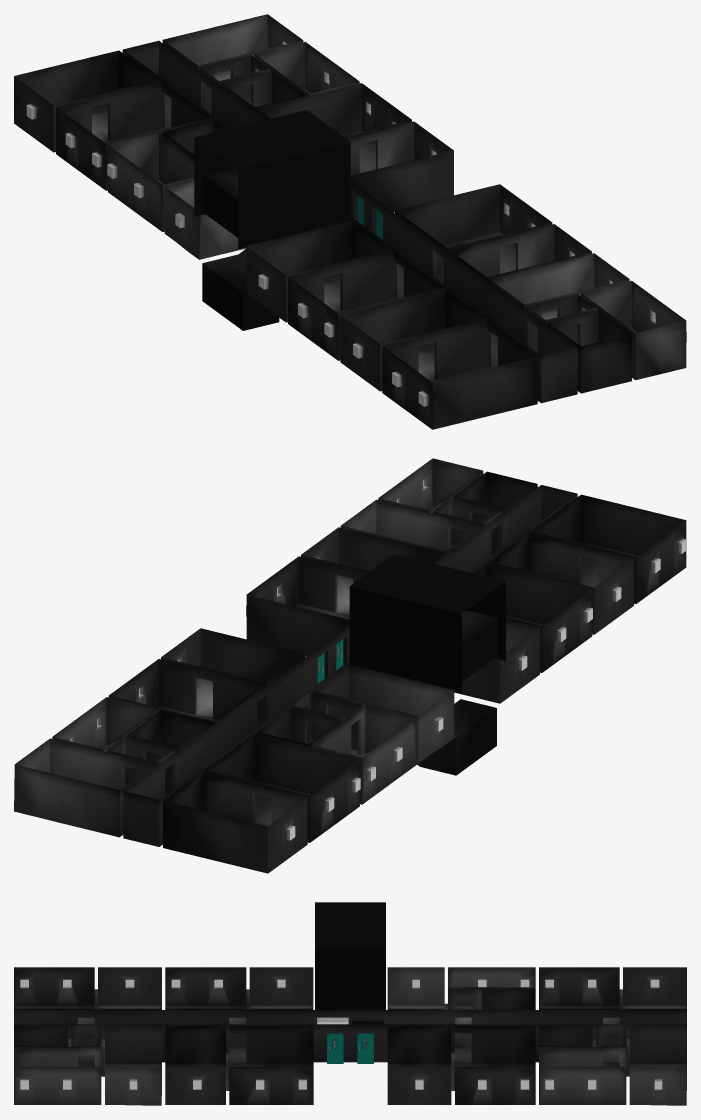
Rendered from flats.glb.
The picture shows the model from 3 angles, top to bottom: view 1: azimuth 30°, elevation 25°; view 2: azimuth 150°, elevation 25°; view 3: azimuth 270°, elevation 25°; orthographic projection. The views are drawn at different scales.
Visible parts, largest first — view 1: Floor, Cube; view 2: Floor, Cube; view 3: Floor, Cube.
Part boxes in pixels (<box>): Floor: <box>14,14,686,429</box>; Cube: <box>194,110,350,248</box>; Floor: <box>14,458,686,873</box>; Cube: <box>349,554,505,692</box>; Floor: <box>14,967,686,1105</box>; Cube: <box>315,902,385,1009</box>.
Bounding box in the file's own units: 14.64 × 8.69 × 40.
Materials: 7 (5 with a texture image).
